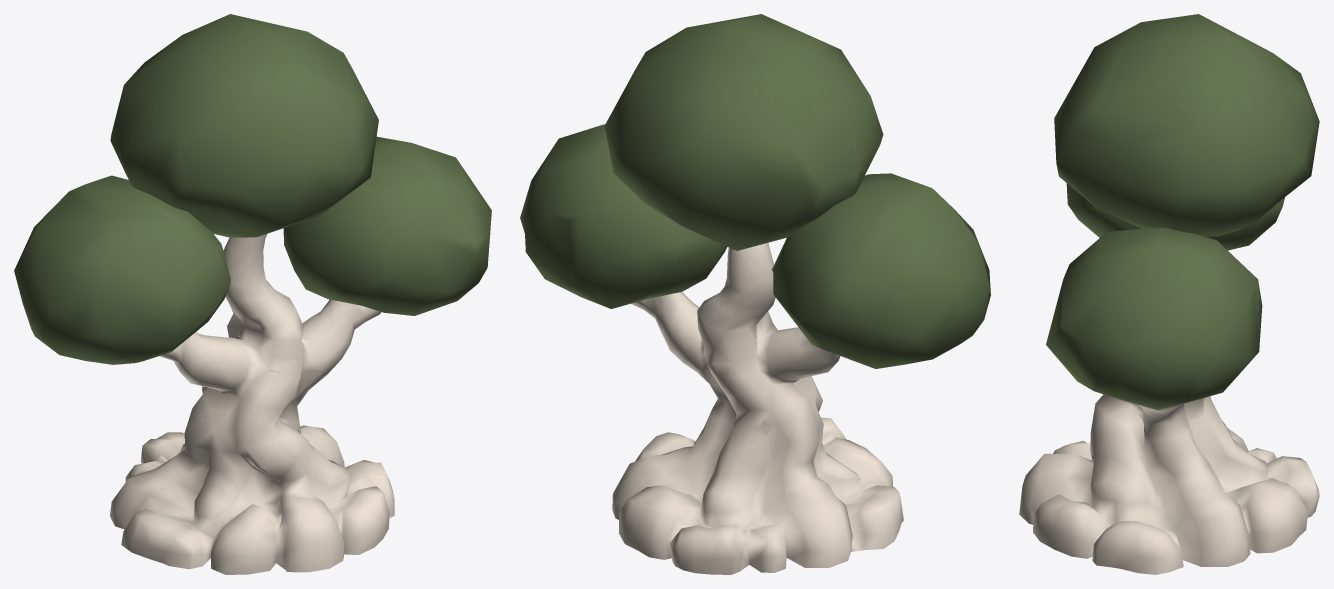
The model's file is vegetation_cluster.glb.
3 renders of one model, left to right at view 1: azimuth 30°, elevation 25°; view 2: azimuth 150°, elevation 25°; view 3: azimuth 270°, elevation 25°, orthographic. The views are drawn at different scales.
Bounding box in the file's own units: 0.9688 × 1 × 0.5625.
Materials: 1 (1 with a texture image).
